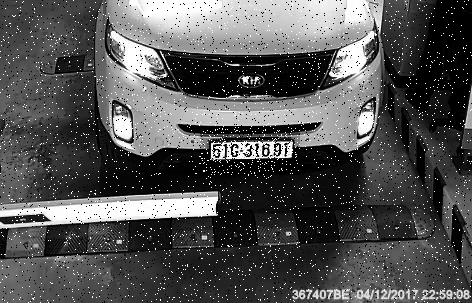License-plate: (201, 128, 301, 176)
